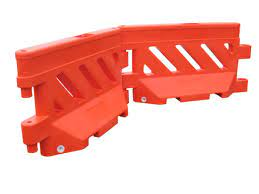barrier: (18, 26, 128, 159), (124, 21, 252, 107)
